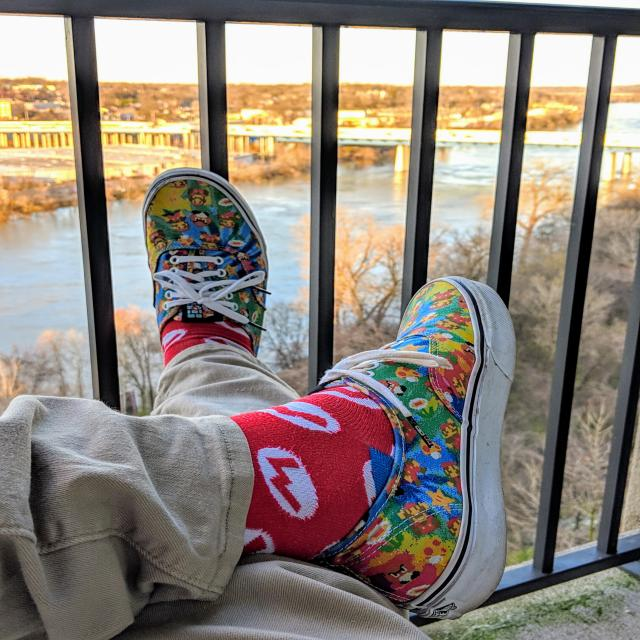shoe: (307, 268, 534, 634), (134, 159, 282, 392)
